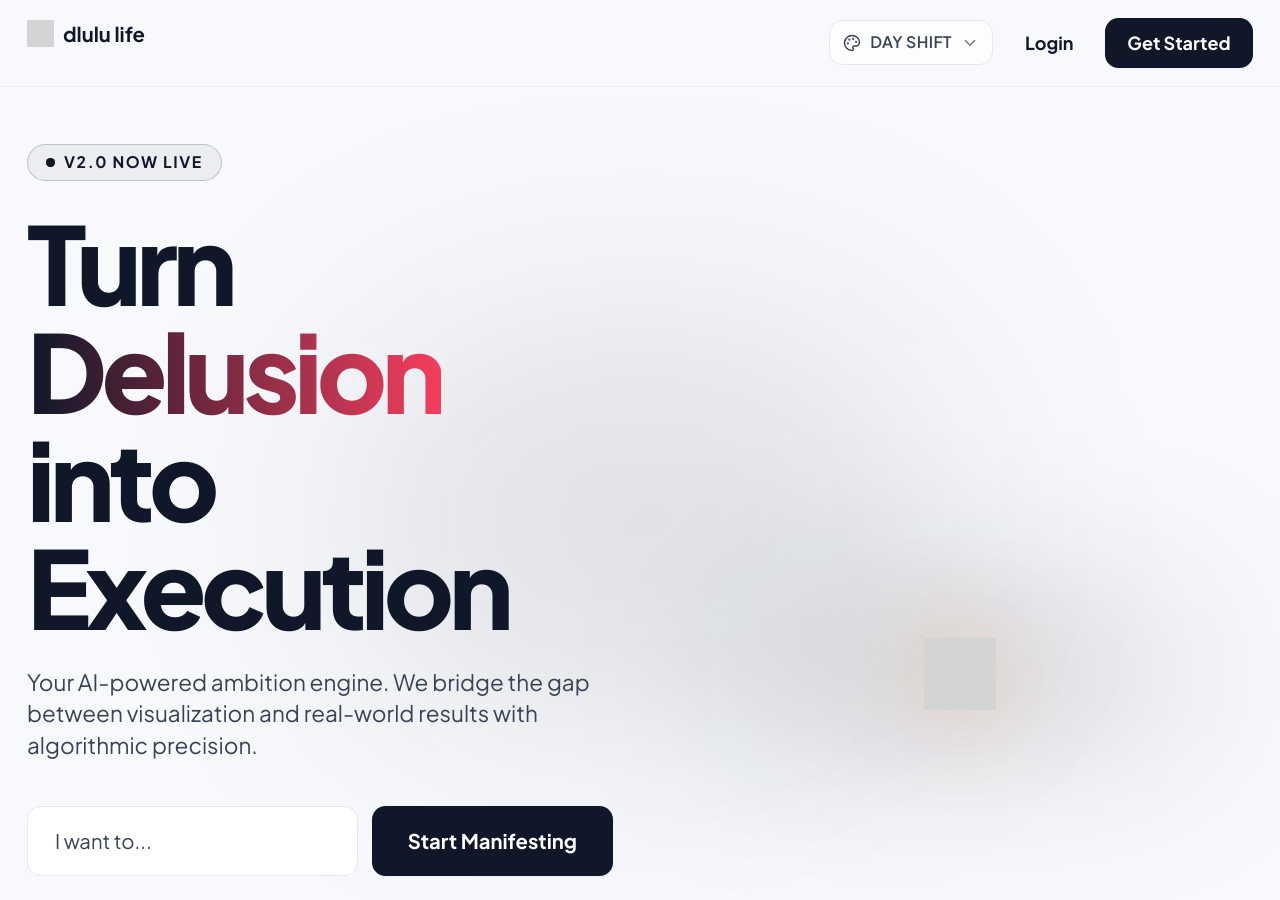
Test case: LandingPage › shows hero content and opens signup modal
The image size is (1280, 900).
Expected: the heading "Turn Delusion into Execution" is shown, [27, 194, 508, 654]
Click the button "Get Started" at (1179, 43), box [1105, 18, 1253, 68]
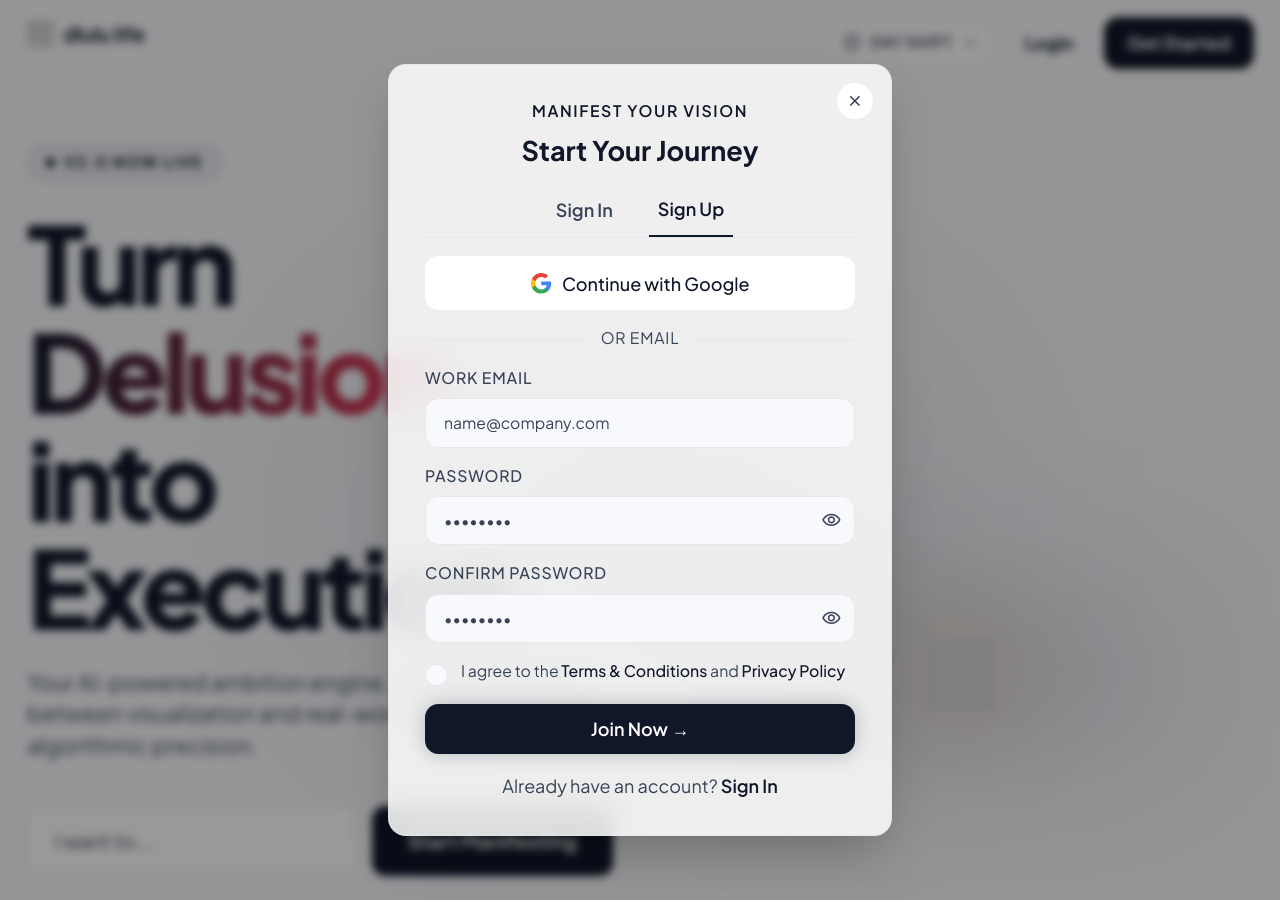
Now the heading "Start Your Journey" is shown, box [521, 133, 759, 167]
